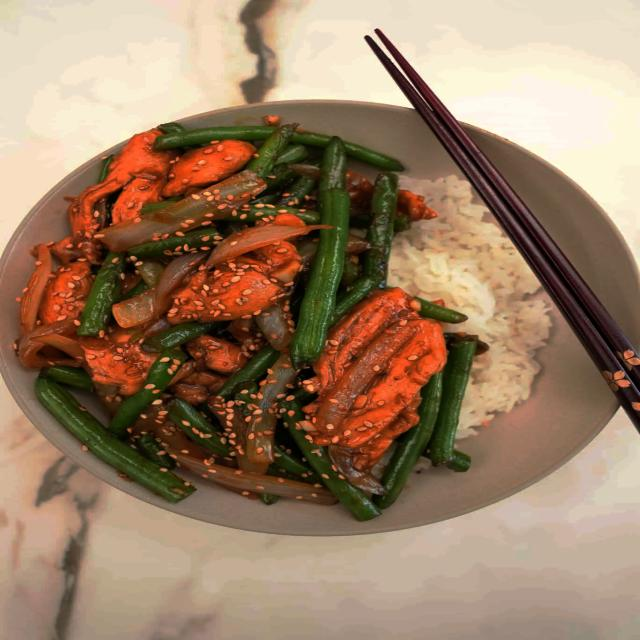String Bean Chicken Breast: (16, 127, 471, 523)
rice: (396, 228, 502, 291), (476, 330, 538, 410), (447, 294, 549, 325), (424, 180, 471, 217)
